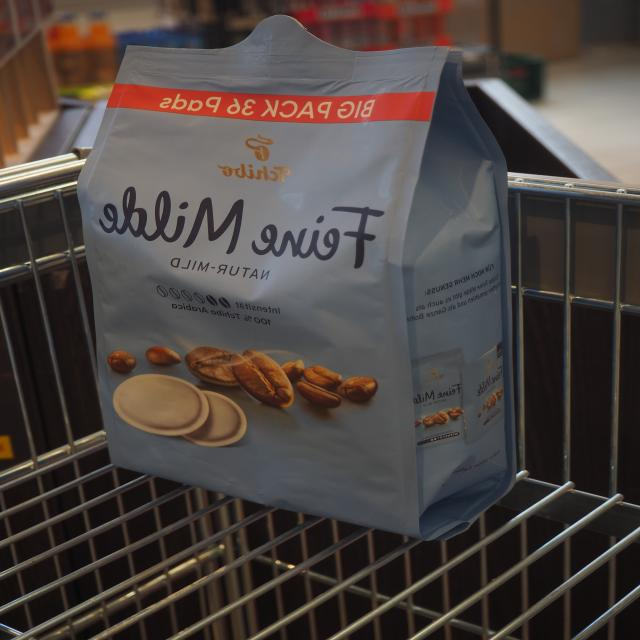FM 36 Pads: (68, 7, 524, 551)
